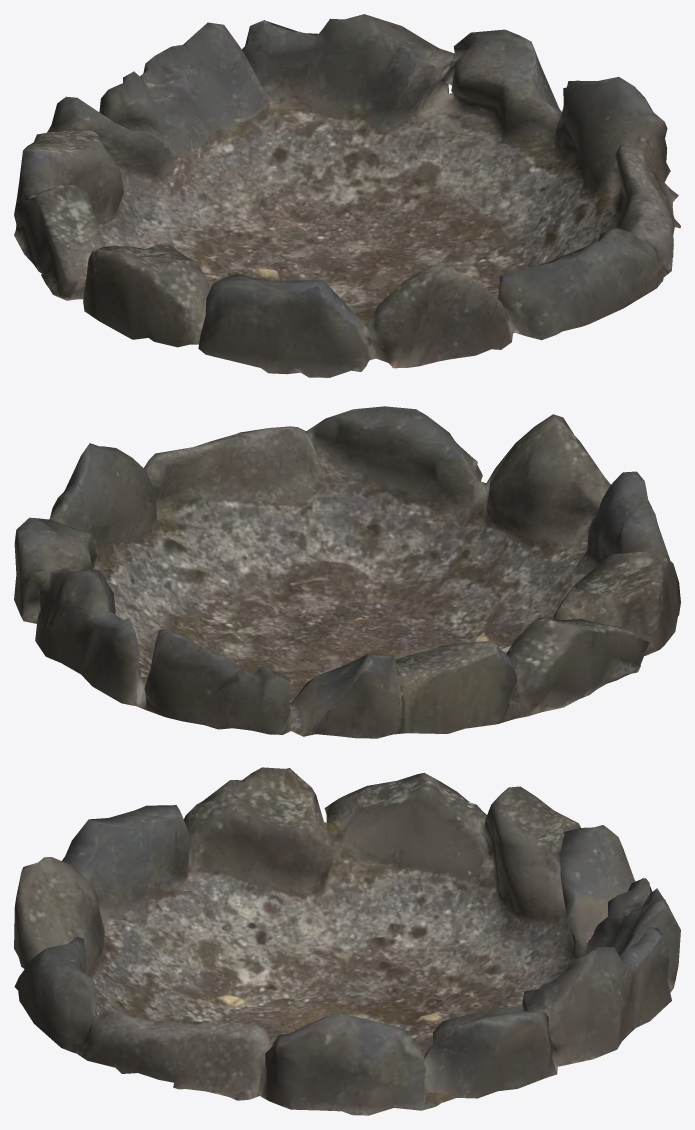
File: stone_fire_pit.glb
The picture shows the model from 3 angles, top to bottom: view 1: azimuth 30°, elevation 25°; view 2: azimuth 150°, elevation 25°; view 3: azimuth 270°, elevation 25°; orthographic projection.
Parts seen in each view (by area): view 1: stone_fire_pit; view 2: stone_fire_pit; view 3: stone_fire_pit.
Part boxes in pixels (x1=…): stone_fire_pit: x1=14, y1=14, x2=680, y2=377; stone_fire_pit: x1=14, y1=406, x2=680, y2=738; stone_fire_pit: x1=14, y1=767, x2=680, y2=1115.
Size of the model in its own units: 1.45 by 0.3883 by 1.43.
Materials: 1 (1 with a texture image).
